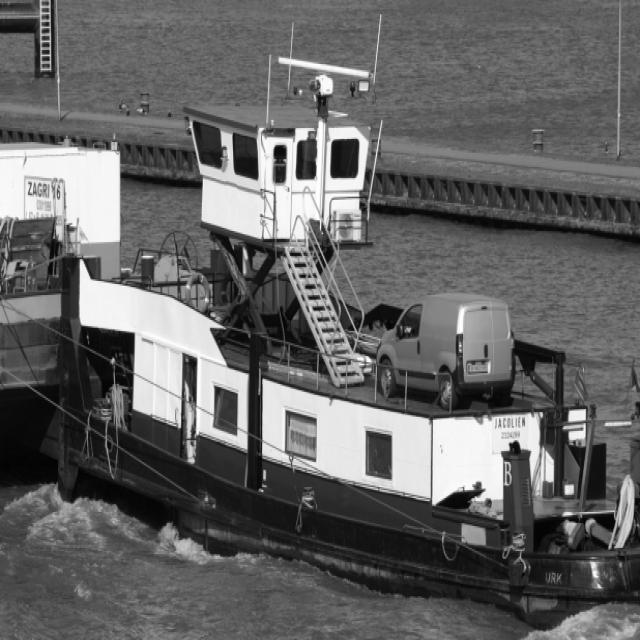tugboat: (50, 11, 640, 639)
